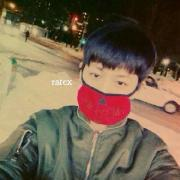WRONG: (81, 60, 141, 120)
